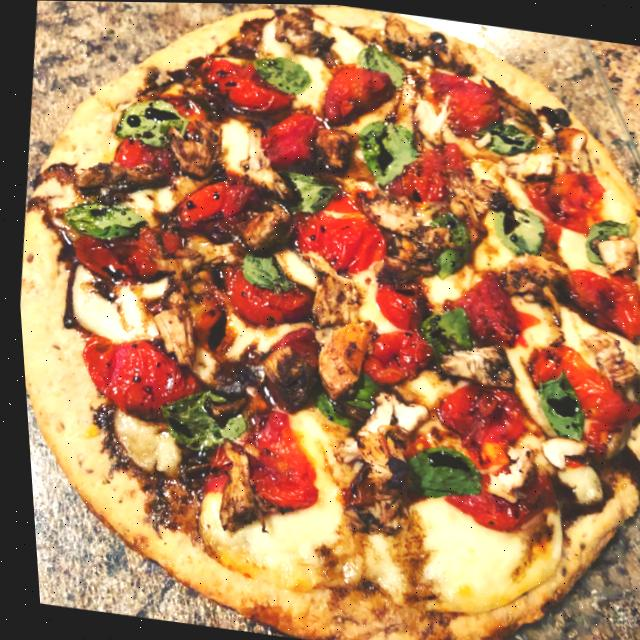basil: (149, 378, 249, 461), (342, 108, 422, 186), (403, 201, 475, 287), (396, 438, 483, 502), (305, 368, 382, 434), (522, 363, 586, 441), (113, 89, 192, 152), (268, 159, 340, 225), (244, 38, 317, 100), (406, 294, 472, 360), (60, 190, 135, 246), (484, 195, 546, 258), (233, 242, 300, 299), (347, 31, 411, 86), (481, 105, 534, 162), (578, 207, 625, 264)
pizza: (0, 0, 640, 640)
tomatoes: (66, 319, 201, 421), (222, 395, 327, 516), (517, 329, 640, 426), (276, 177, 390, 279), (508, 153, 613, 239), (200, 255, 315, 332), (153, 163, 250, 244), (430, 262, 522, 347), (550, 257, 640, 343), (189, 46, 298, 117), (57, 216, 165, 287), (424, 375, 525, 448), (418, 59, 501, 138), (385, 135, 469, 210), (246, 101, 333, 172), (316, 60, 398, 133), (433, 478, 528, 534), (351, 323, 432, 388), (168, 430, 230, 497), (99, 129, 169, 178), (360, 274, 421, 330), (251, 316, 313, 368), (382, 418, 428, 465)
